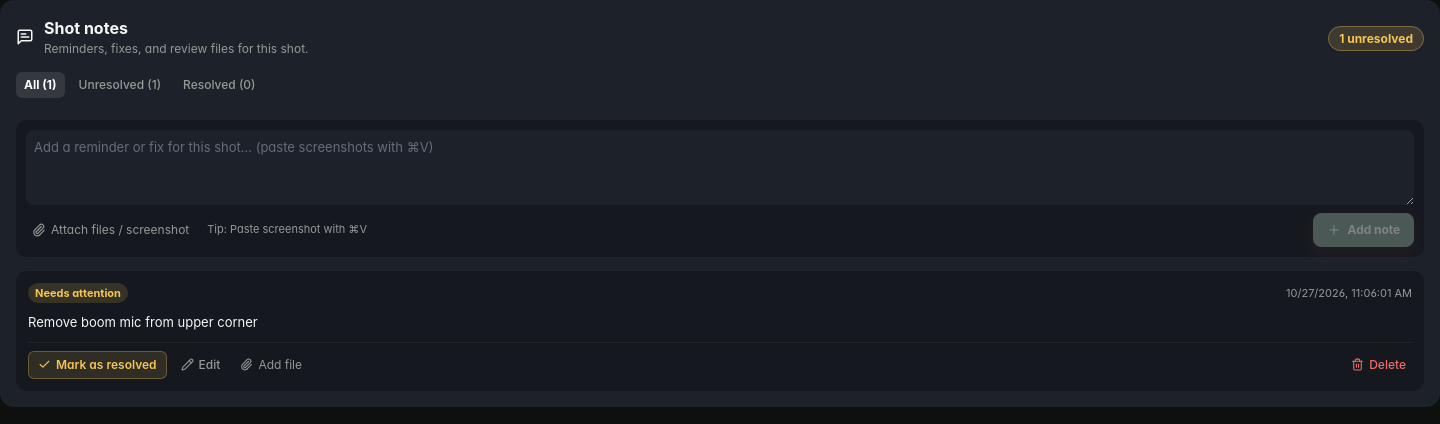
Test: ShotNotesPanel › renders notes, supports adding a note and resolving it
The image size is (1440, 424).
What coordinates should you click on to do the following:
click the button with class "resolve-toggle-btn"
I would click on:
 (97, 365)
Its box is [28,351,167,379].
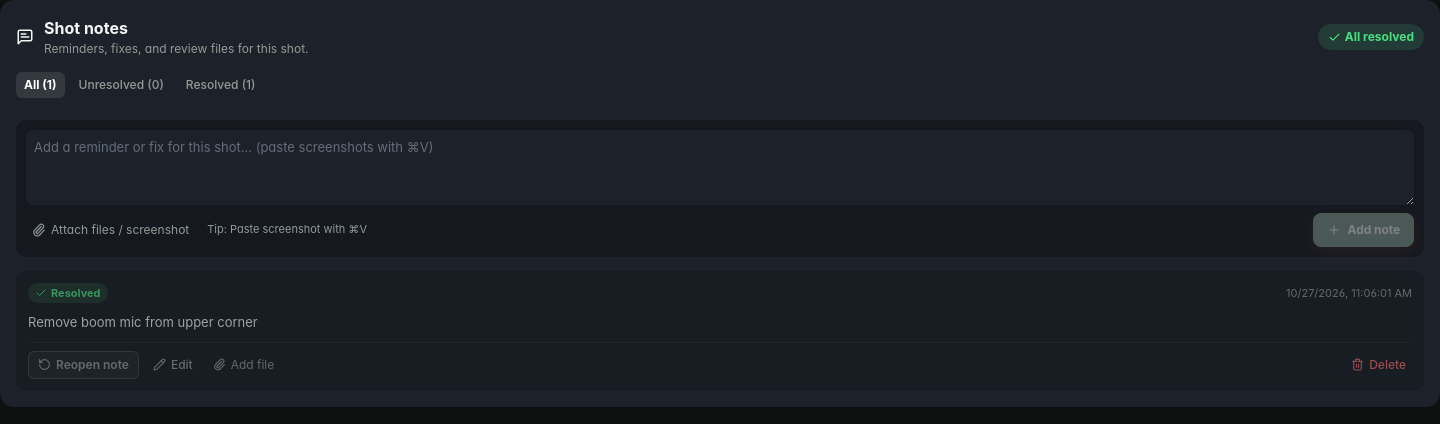
Check: the text "All resolved" is shown, box [1318,24,1424,50]
